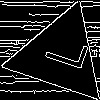L: (35, 30, 90, 72)
